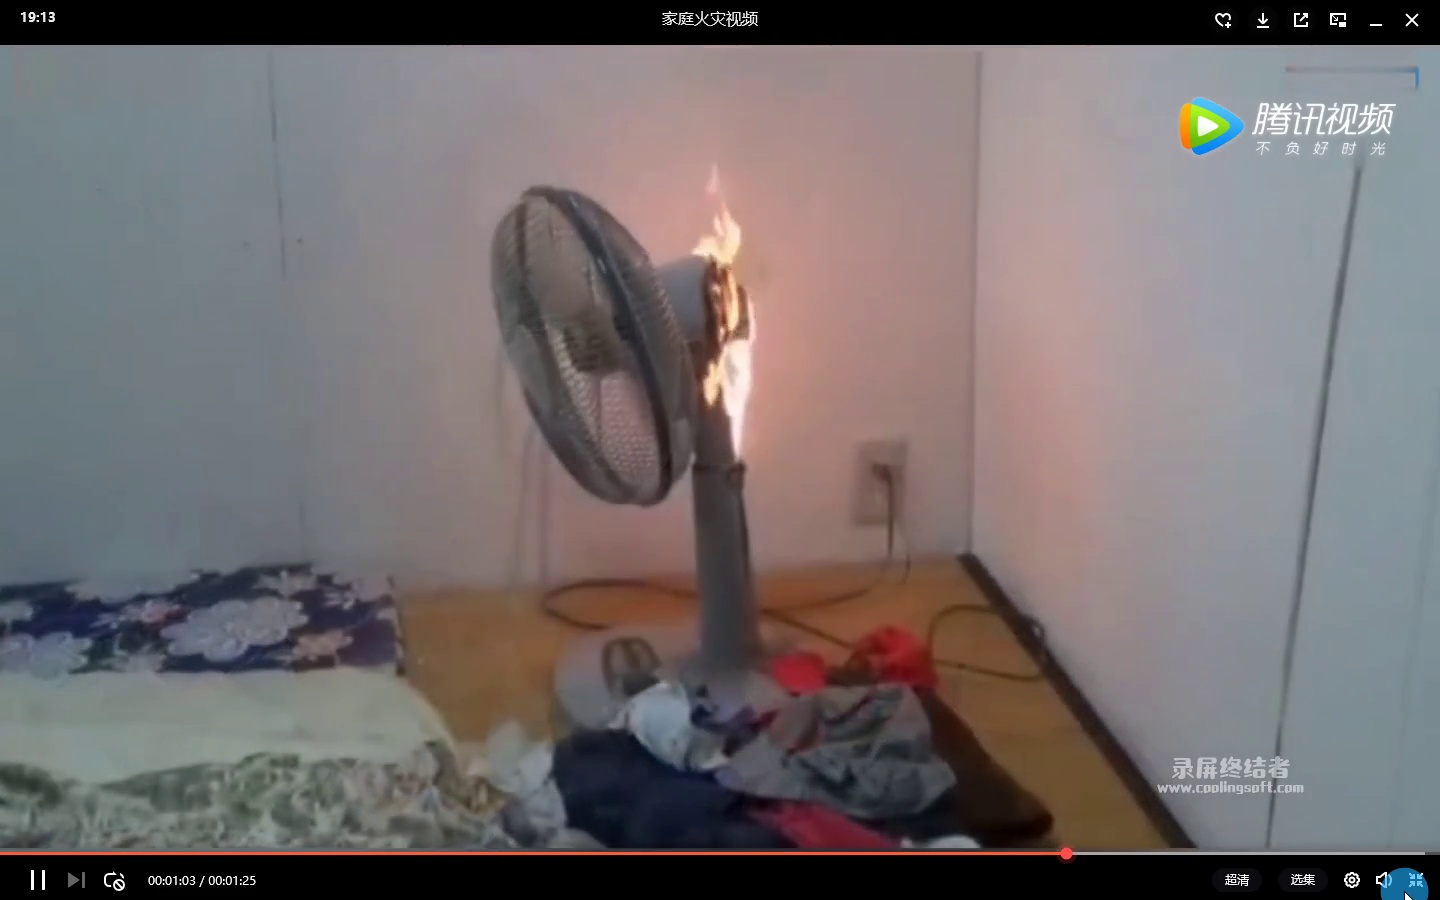fire: (698, 179, 765, 458)
